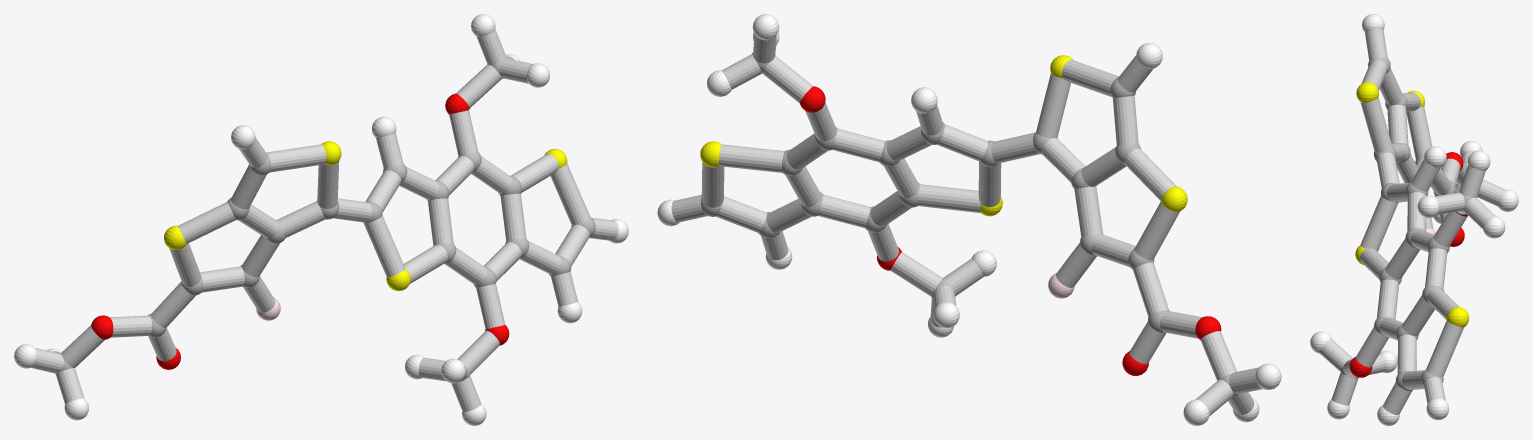
File: color.glb
3 views of the same model, side by side, from view 1: azimuth 30°, elevation 25°; view 2: azimuth 150°, elevation 25°; view 3: azimuth 270°, elevation 25° (orthographic). The views are drawn at different scales.
Parts seen in each view (by area): view 1: grp15205, grp8689, grp1, grp7241, grp13395; view 2: grp15205, grp8689, grp1, grp7241, grp13395; view 3: grp15205, grp8689, grp1, grp7241, grp13395.
Part boxes in pixels (x1=…): grp15205: x1=31, y1=29, x2=618, y2=411; grp8689: x1=14, y1=14, x2=628, y2=425; grp1: x1=55, y1=57, x2=595, y2=379; grp7241: x1=164, y1=141, x2=567, y2=290; grp13395: x1=91, y1=93, x2=509, y2=369; grp15205: x1=671, y1=34, x2=1262, y2=415; grp8689: x1=657, y1=14, x2=1281, y2=425; grp1: x1=701, y1=53, x2=1238, y2=397; grp7241: x1=700, y1=55, x2=1187, y2=216; grp13395: x1=799, y1=86, x2=1221, y2=375; grp15205: x1=1319, y1=29, x2=1505, y2=414; grp8689: x1=1310, y1=14, x2=1518, y2=425; grp1: x1=1340, y1=57, x2=1472, y2=391; grp7241: x1=1355, y1=82, x2=1469, y2=327; grp13395: x1=1349, y1=152, x2=1467, y2=377.
Size of the model in its own units: 16.66 by 9.03 by 5.53.
